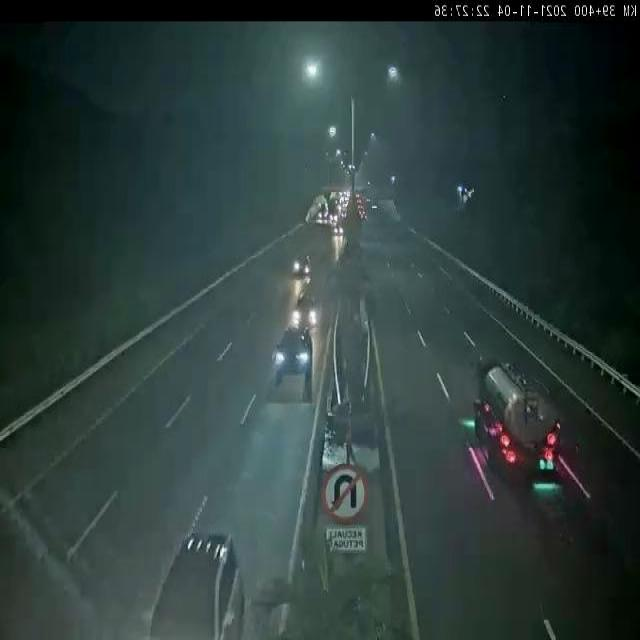Car: (143, 534, 251, 640), (274, 321, 322, 395), (285, 294, 328, 336), (285, 256, 317, 290)
Truck: (461, 363, 572, 470)
